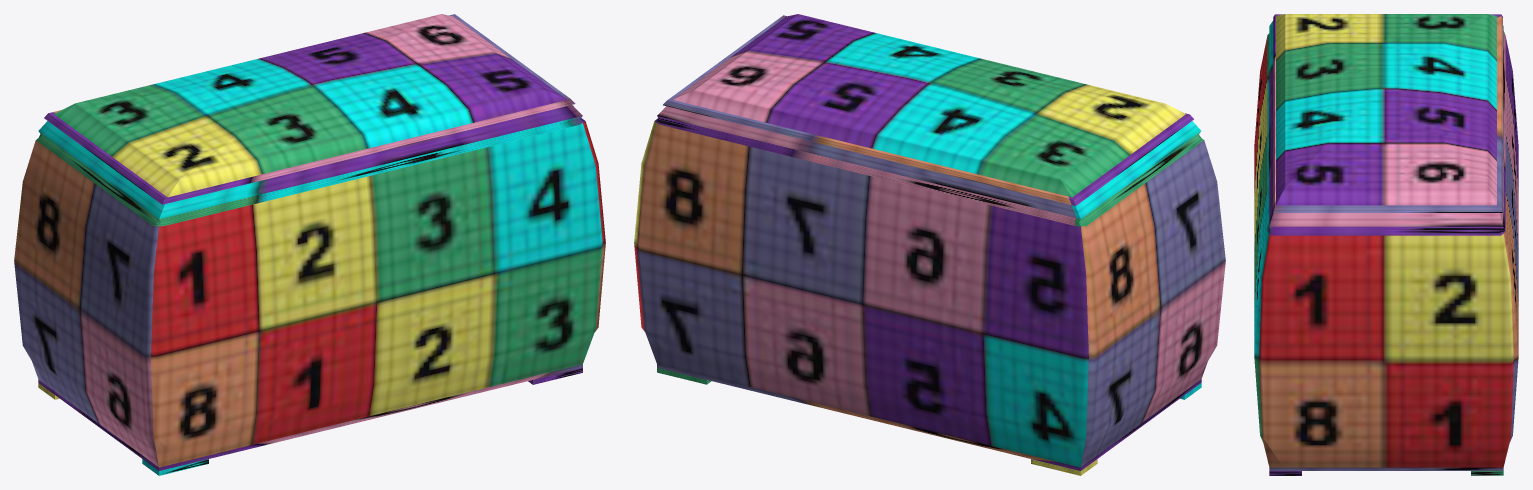
File: Freezer.fbx
3 renders of one model, left to right at view 1: azimuth 30°, elevation 25°; view 2: azimuth 150°, elevation 25°; view 3: azimuth 270°, elevation 25°, orthographic. The views are drawn at different scales.
Visible parts, largest first — view 1: Freezer_mesh; view 2: Freezer_mesh; view 3: Freezer_mesh.
Boxes of the visible parts, bbox=[...] form: Freezer_mesh: bbox=[14, 14, 605, 475]; Freezer_mesh: bbox=[634, 14, 1225, 475]; Freezer_mesh: bbox=[1254, 14, 1518, 475].
Size of the model in its own units: 1.54 by 0.9452 by 0.7887.
